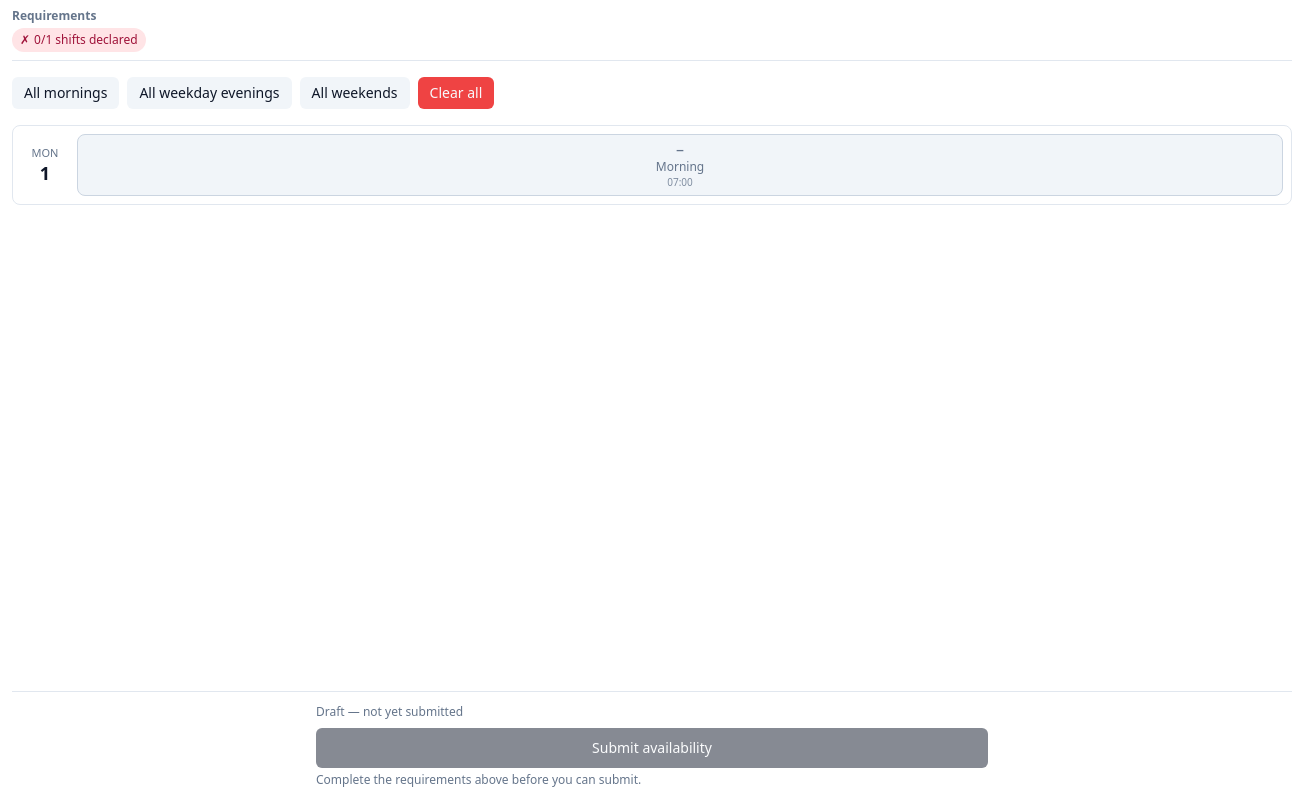
Test: AvailabilityCalendar › shows the requirements bar and reflects the latest validation after a save
The width and height of the screenshot is (1292, 800).
Expected: the text "0/1 shifts declared" is shown, left=34, top=32, right=138, bottom=48
Click the button with aria-label "morning — unavailable".
click(680, 165)  # box left=77, top=134, right=1283, bottom=196
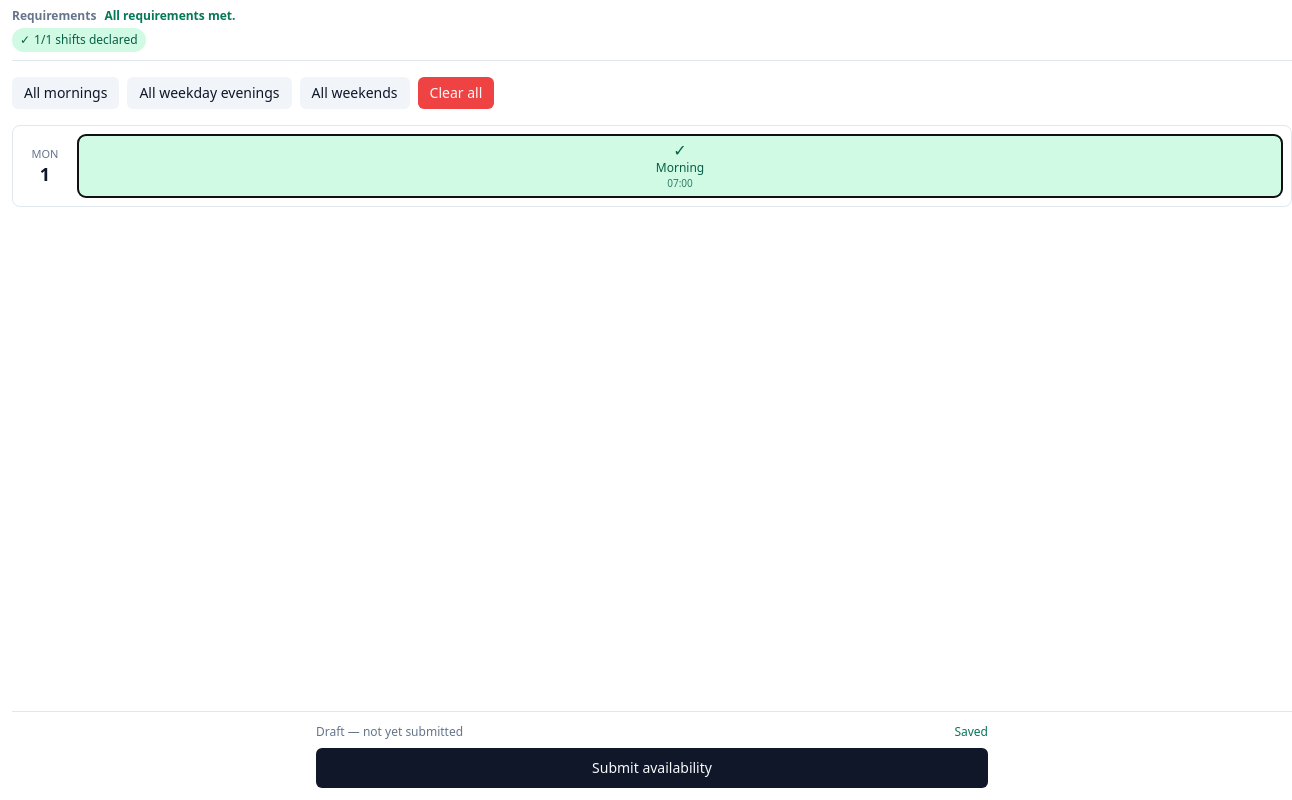
Expected: the text "1/1 shifts declared" is shown, left=34, top=32, right=138, bottom=48
